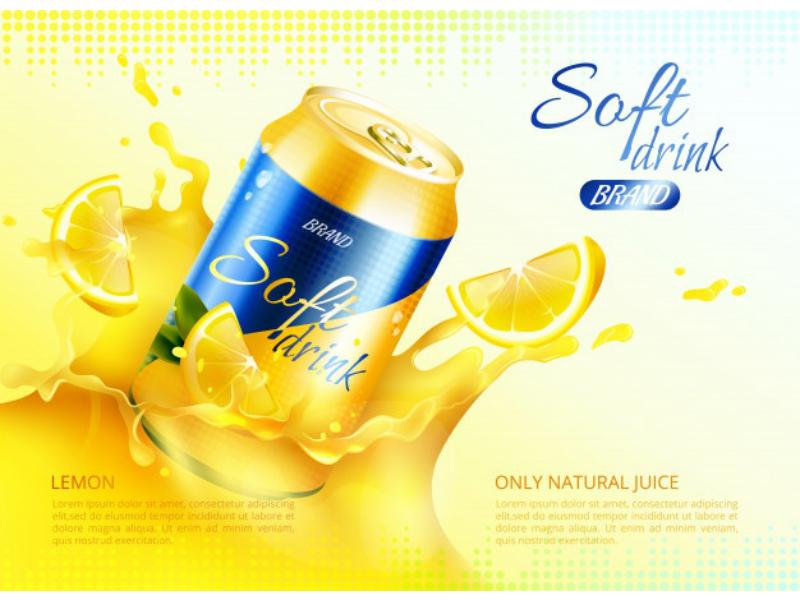can: (172, 66, 479, 471)
